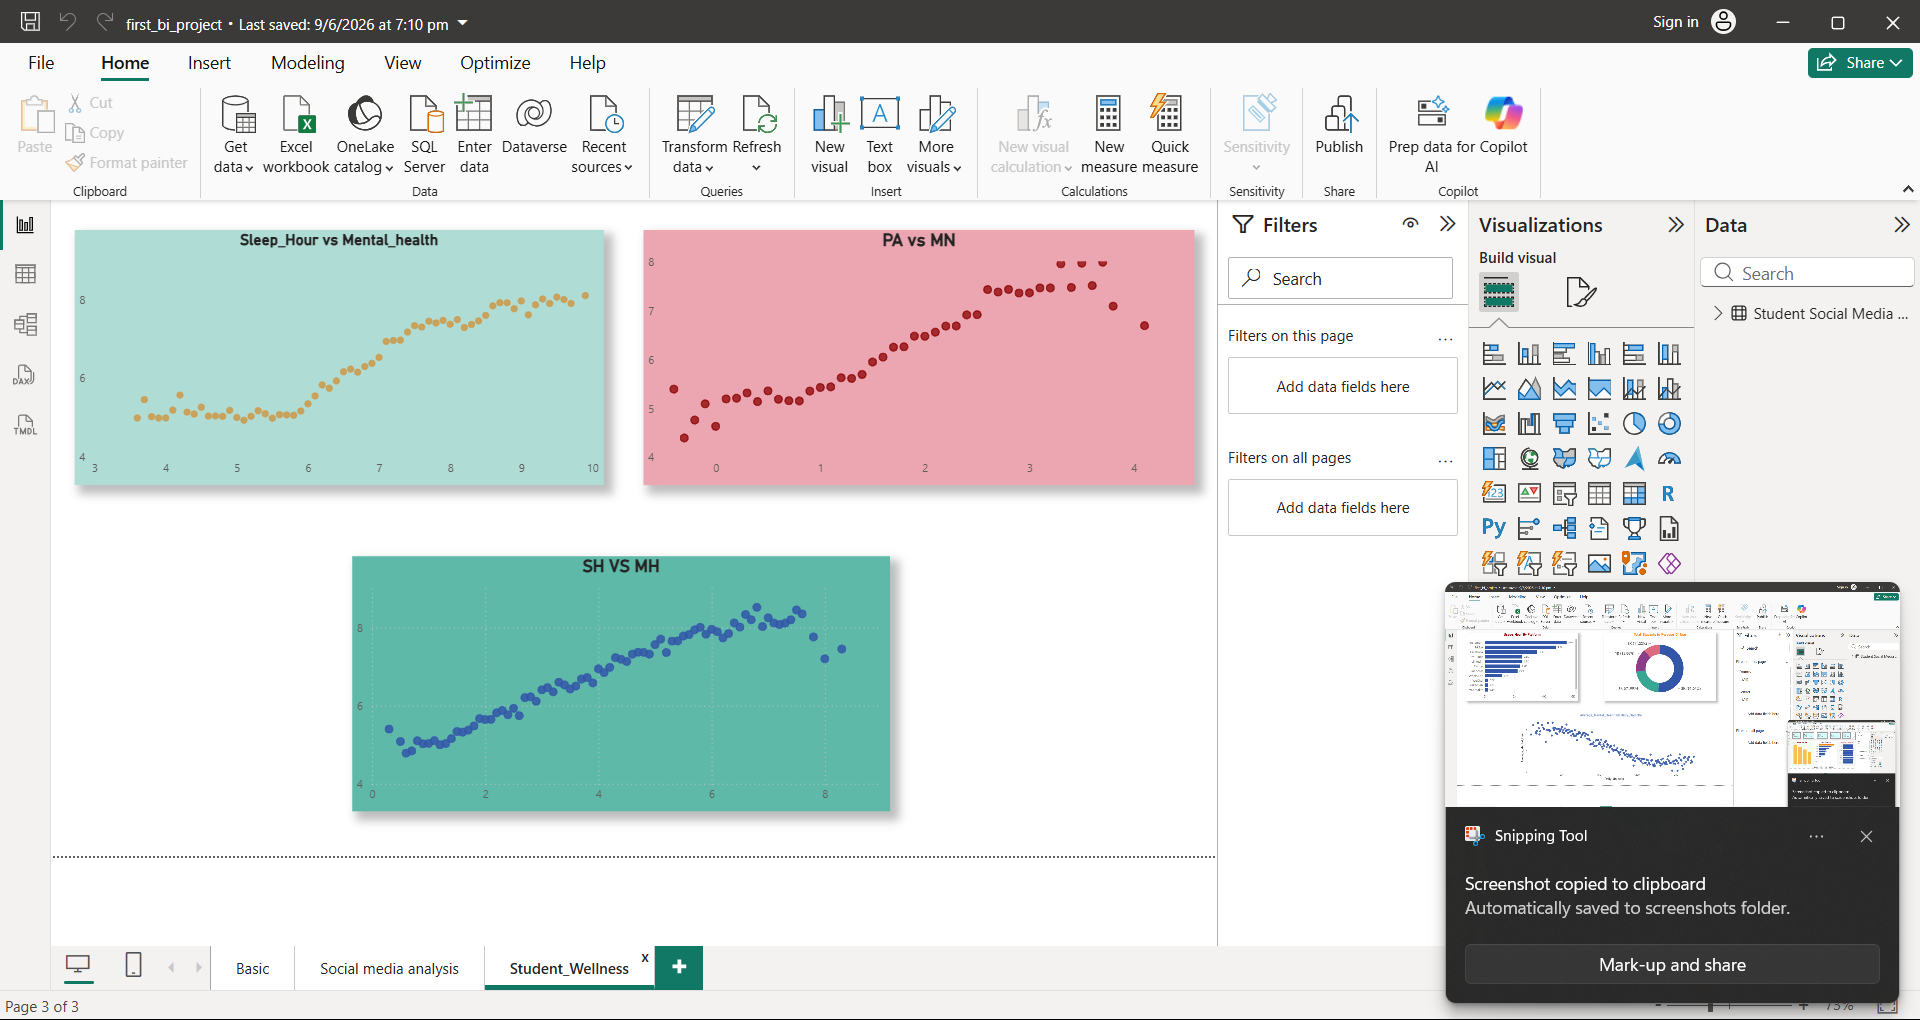

Layout of this report page (visuals, bound fields, positions):
{"tool":"powerbi","page":{"name":"Student_Wellness","canvas":[1280,720],"ordinal":2},"visuals":[{"type":"scatterChart","title":"Sleep_Hour vs Mental_health","fields":{"X":["Student Social Media And Mental Health Impact.Sleep_Hours_Per_Night"],"Y":["Avg(Student Social Media And Mental Health Impact.Mental_Health_Score)"]},"box":[26.1,32.9,580.4,279.9],"z":0},{"type":"scatterChart","title":"PA vs MN","fields":{"X":["Student Social Media And Mental Health Impact.Physical_Activity_Hours"],"Y":["Student Social Media And Mental Health Impact.Average_Mental_Health"]},"box":[650.4,32.9,605.1,279.9],"z":1},{"type":"scatterChart","title":"SH VS MH","fields":{"X":["Student Social Media And Mental Health Impact.Study_Hours"],"Y":["Student Social Media And Mental Health Impact.Average_Mental_Health"]},"box":[330.7,391.1,590.1,279.9],"z":2}]}

Visuals, with their boxes on the page's 1280x720 design canvas (x1, y1, x2, y2). These are canvas units, not pixel positions in the 1920x1020 screenshot, which may show the page scaled, cropped or inside an application window:
"Sleep_Hour vs Mental_health" scatterChart: detection(26, 33, 606, 313)
"PA vs MN" scatterChart: detection(650, 33, 1256, 313)
"SH VS MH" scatterChart: detection(331, 391, 921, 671)
